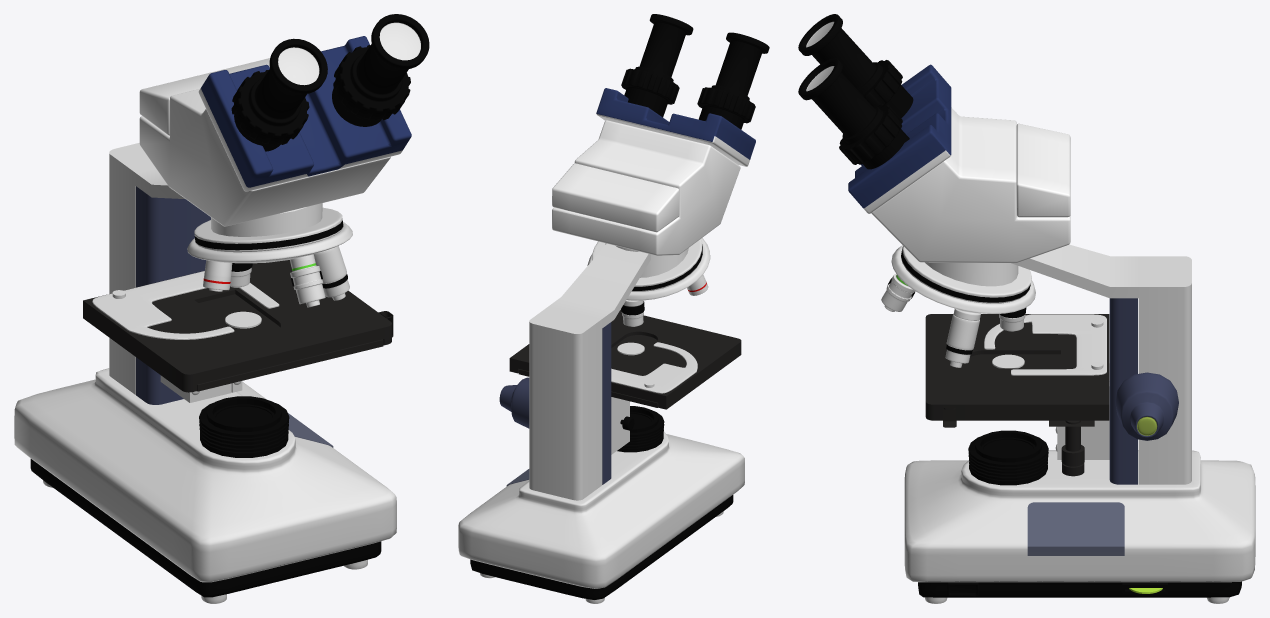
File: Mikroskop Cahaya.fbx
3 renders of one model, left to right at view 1: azimuth 30°, elevation 25°; view 2: azimuth 150°, elevation 25°; view 3: azimuth 270°, elevation 25°, orthographic. The views are drawn at different scales.
Visible parts, largest first — view 1: Cube.067, Cube.094, Cube.089, Cube.087, Cylinder.015, Cylinder.016, Cylinder.013, Cube.080, Cube.071, Cylinder.014, Cube.082, Cube.091 (+2 smaller); view 2: Cube.067, Cube.094, Cube.087, Cube.089, Cylinder.015, Cylinder.016, Cube.080, Cube.071, Cylinder.013, Cube.088, Cube.095, Cylinder.014 (+1 smaller); view 3: Cube.067, Cube.094, Cube.087, Cube.089, Cylinder.015, Cube.086, Cylinder.016, Cube.080, Cylinder.013, Cube.088, Cube.071, Cylinder.014 (+4 smaller).
Part boxes in pixels (x1,y1,x2,y2): Cube.067: [14, 368, 396, 597]; Cube.094: [139, 36, 411, 226]; Cube.089: [83, 260, 391, 392]; Cube.087: [109, 143, 210, 404]; Cylinder.015: [332, 14, 429, 126]; Cylinder.016: [231, 38, 327, 151]; Cylinder.013: [199, 396, 289, 457]; Cube.080: [187, 207, 352, 263]; Cube.071: [92, 271, 279, 339]; Cylinder.014: [211, 203, 322, 236]; Cube.082: [290, 254, 325, 307]; Cube.091: [313, 246, 349, 300]; Cube.067: [458, 431, 744, 599]; Cube.094: [552, 88, 755, 255]; Cube.087: [529, 243, 650, 500]; Cube.089: [509, 309, 741, 409]; Cylinder.015: [621, 14, 693, 117]; Cylinder.016: [697, 32, 769, 129]; Cube.080: [587, 238, 710, 300]; Cube.071: [611, 342, 697, 393]; Cylinder.013: [617, 406, 664, 452]; Cube.088: [499, 377, 529, 428]; Cube.095: [611, 397, 629, 454]; Cylinder.014: [605, 243, 688, 277]; Cube.067: [904, 450, 1255, 597]; Cube.094: [848, 64, 1070, 262]; Cube.087: [1011, 244, 1191, 484]; Cube.089: [925, 314, 1109, 426]; Cylinder.015: [798, 58, 909, 169]; Cube.086: [1027, 502, 1124, 555]; Cylinder.016: [798, 14, 913, 118]; Cube.080: [891, 245, 1035, 313]; Cylinder.013: [968, 430, 1048, 485]; Cube.088: [1115, 372, 1178, 440]; Cube.071: [984, 314, 1106, 375]; Cylinder.014: [925, 262, 1018, 286].
Size of the model in its own units: 25.74 by 67.13 by 52.49.
